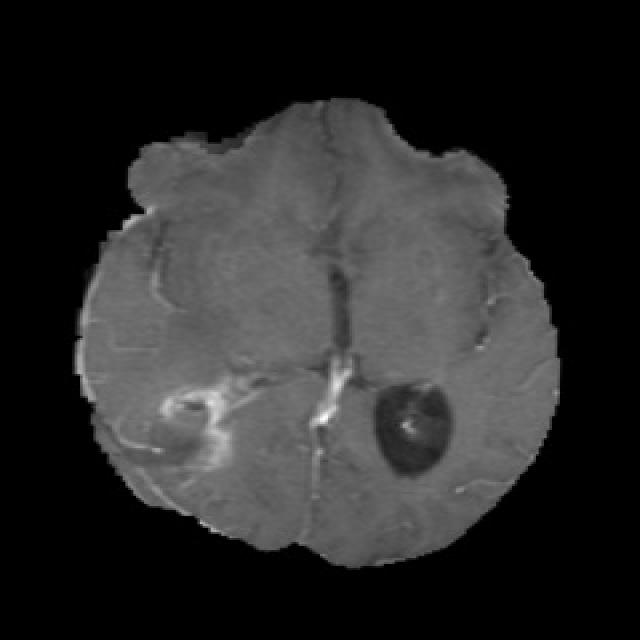negative: (131, 386, 229, 474)
